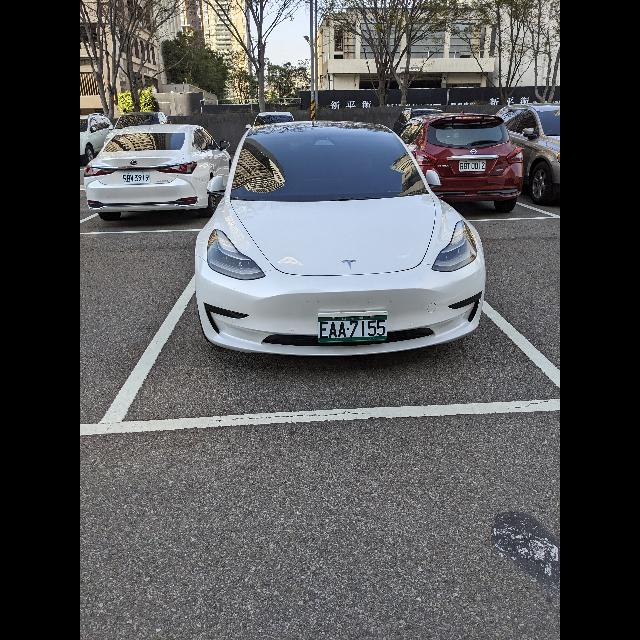plate: (318, 311, 388, 343)
